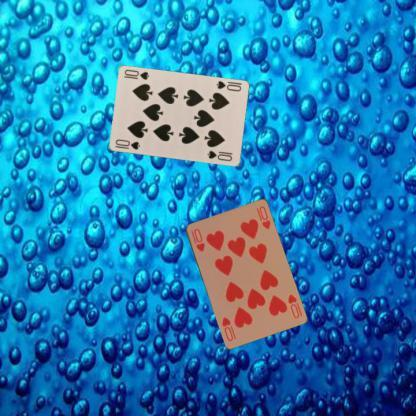10h: (188, 226, 206, 253), (284, 291, 300, 320)
10s: (113, 137, 142, 151), (213, 78, 242, 92)
